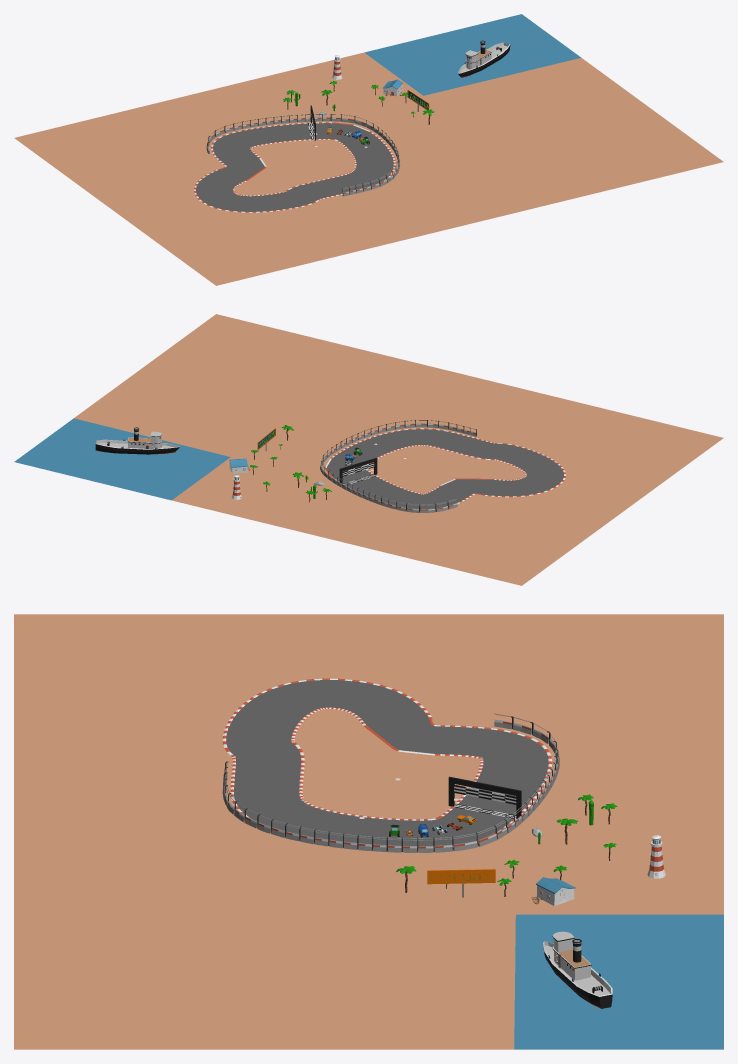
Rendered from front-page.glb.
The picture shows the model from 3 angles, top to bottom: view 1: azimuth 30°, elevation 25°; view 2: azimuth 150°, elevation 25°; view 3: azimuth 270°, elevation 25°; orthographic projection. The views are drawn at different scales.
Parts seen in each view (by area): view 1: ground, road, fence, shipwreck; view 2: ground, road, fence, shipwreck, goal; view 3: ground, road, fence, shipwreck, goal, sign, house.
Part boxes in pixels (x1,y1,x2,y2): ground: [14, 14, 723, 285]; road: [193, 122, 395, 212]; fence: [206, 114, 400, 196]; shipwreck: [458, 40, 510, 77]; ground: [14, 314, 723, 585]; road: [325, 428, 565, 510]; fence: [320, 420, 476, 512]; shipwreck: [95, 427, 179, 454]; goal: [339, 458, 377, 485]; ground: [14, 614, 723, 1049]; road: [222, 678, 551, 849]; fence: [222, 713, 559, 852]; shipwreck: [543, 931, 612, 1008]; goal: [448, 776, 521, 818]; sign: [427, 869, 495, 897]; house: [536, 877, 575, 905].
Size of the model in its own units: 442 by 25.04 by 305.
Materials: 12 (12 with a texture image).
